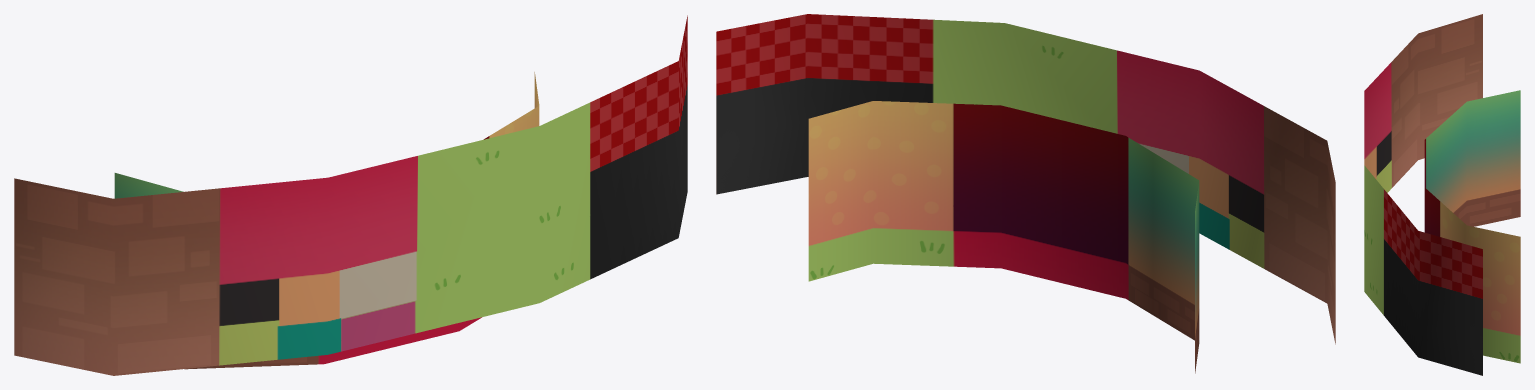
The model's file is Crowds.fbx.
The picture shows the model from 3 angles, left to right: view 1: azimuth 30°, elevation 25°; view 2: azimuth 150°, elevation 25°; view 3: azimuth 270°, elevation 25°; orthographic projection. The views are drawn at different scales.
Visible parts, largest first — view 1: BigCrowd, SmallCrowd; view 2: BigCrowd, SmallCrowd; view 3: BigCrowd, SmallCrowd.
Part boxes in pixels (x1,y1,x2,y2): BigCrowd: [14, 15, 687, 375]; SmallCrowd: [114, 72, 539, 369]; BigCrowd: [716, 14, 1335, 344]; SmallCrowd: [808, 101, 1199, 373]; BigCrowd: [1364, 14, 1482, 375]; SmallCrowd: [1424, 90, 1520, 363].
Size of the model in its own units: 57.82 by 18.59 by 16.25.
1 material, 1 textured.
